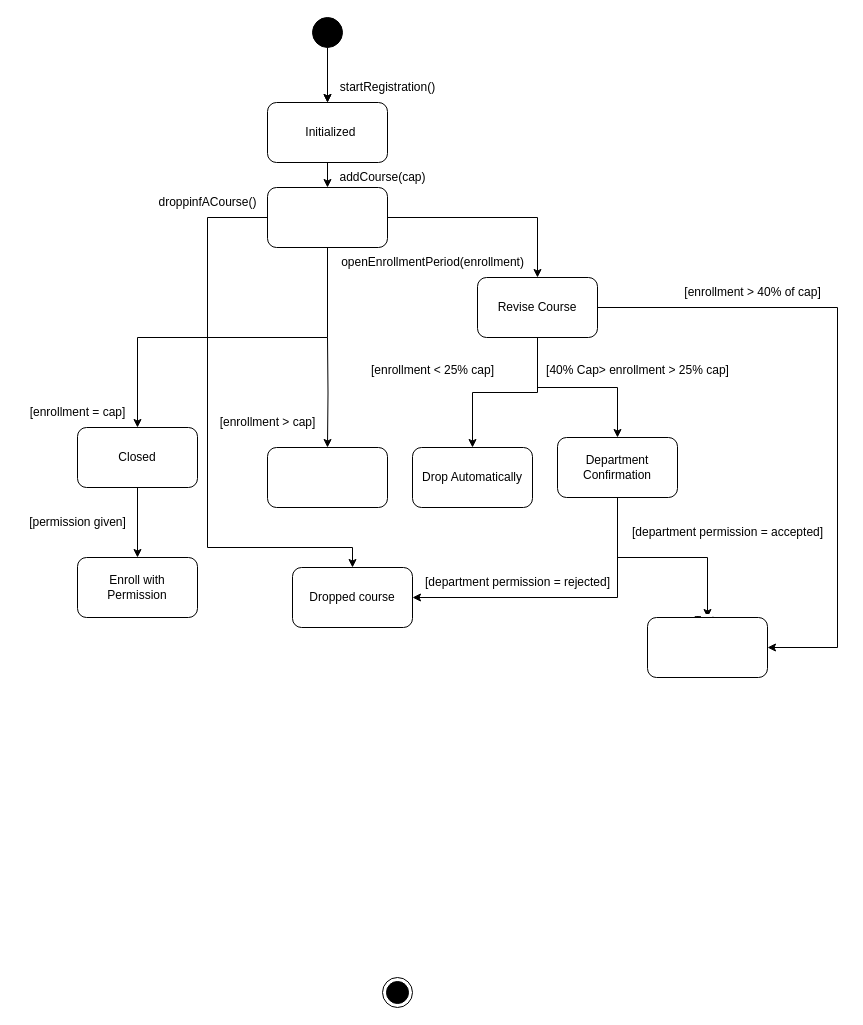
Some shapes in this 863 by 1025 pixel diagram are drawn without their labels. The shapes that lost their labels are listed below. From the top down, each one's centre as x and y in pixels, then its label:
At point (327, 217): "Starts Enrollment".
At point (327, 477): "Overfull".
At point (707, 647): "Offered".
